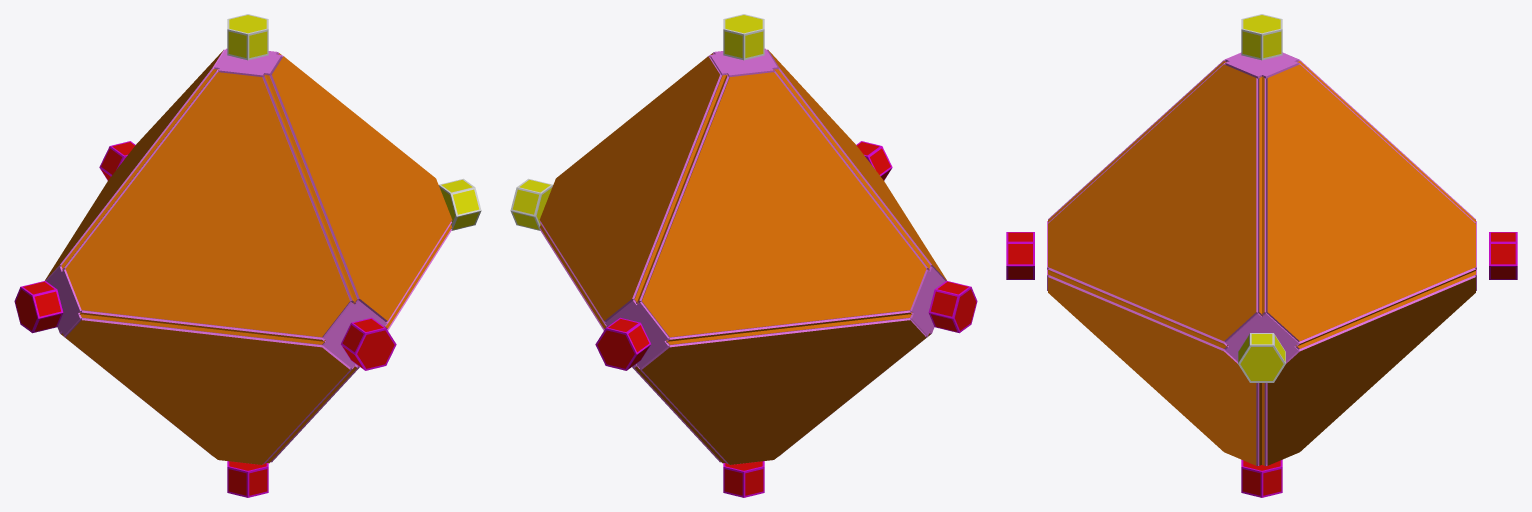
Rendered from Octahedron_LowRes_v01.FBX.
The picture shows the model from 3 angles, left to right: view 1: azimuth 30°, elevation 25°; view 2: azimuth 150°, elevation 25°; view 3: azimuth 270°, elevation 25°; orthographic projection.
Visible parts, largest first — view 1: GEARS; view 2: GEARS; view 3: GEARS.
Boxes of the visible parts, x1,y1,x2,y2 form: GEARS: [14, 14, 481, 497]; GEARS: [510, 14, 977, 497]; GEARS: [1006, 14, 1517, 497].
Bounding box in the file's own units: 21.3 × 21.3 × 21.3.
